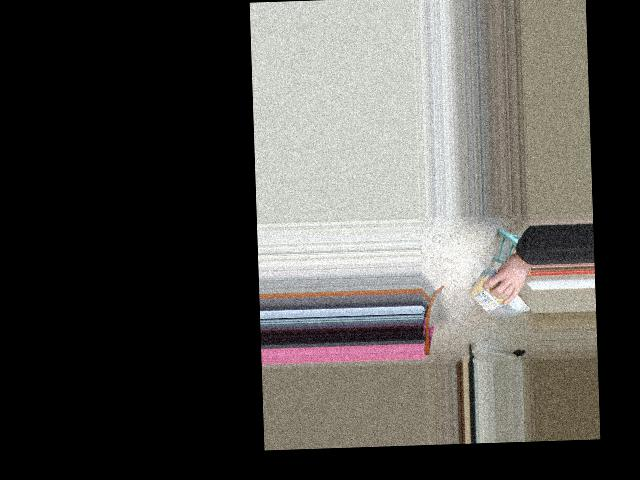cheese: (469, 271, 528, 317)
